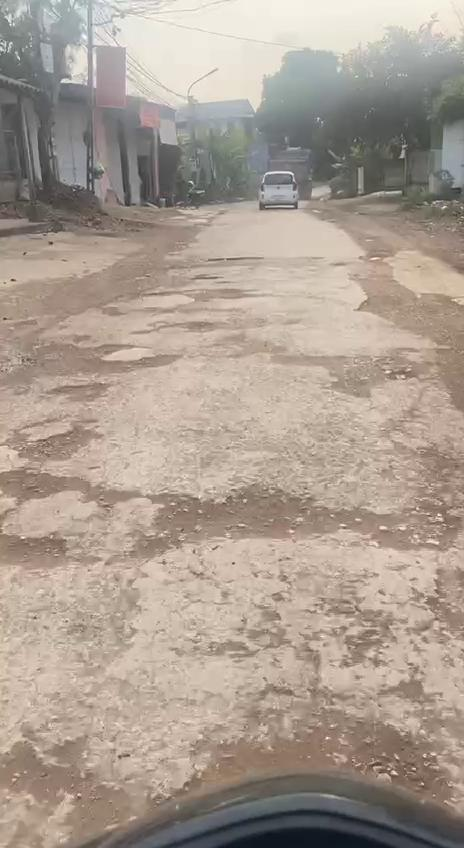pothole: (162, 700, 452, 816), (120, 466, 457, 556), (0, 412, 114, 574), (0, 716, 135, 848), (8, 334, 193, 385), (326, 347, 430, 402)
